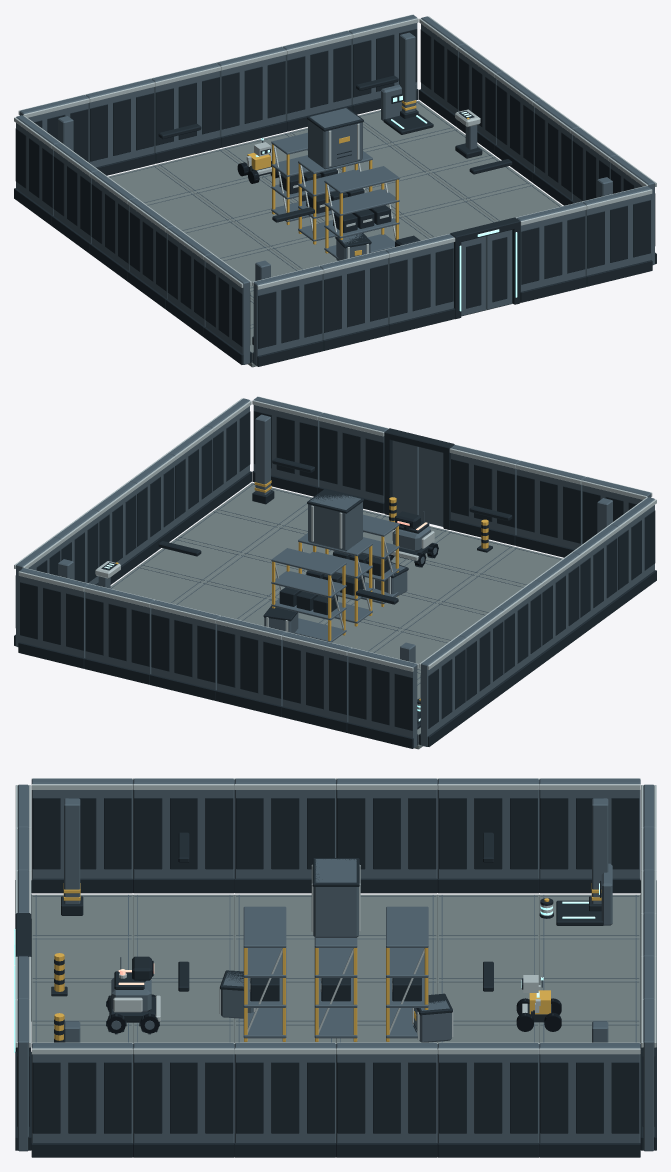
The model's file is SCN_Warehouse_12m.fbx.
The picture shows the model from 3 angles, top to bottom: view 1: azimuth 30°, elevation 25°; view 2: azimuth 150°, elevation 25°; view 3: azimuth 270°, elevation 25°; orthographic projection. The views are drawn at different scales.
Parts seen in each view (by area): view 1: PROP_CrateLarge__Container, ENV_Wall_2m__Body, ENV_Floor_2m__Tile.012, ENV_Floor_2m__Tile.032, ENV_Floor_2m__Tile.013, ENV_Floor_2m__Tile.031, ENV_Floor_2m__Tile.026, ENV_Wall_2m__Body.008, ENV_Wall_2m__Body.007, ENV_Wall_2m__Body.006, ENV_Wall_2m__Body.004, ENV_Floor_2m__Tile.033 (+111 smaller); view 2: ENV_Floor_2m__Tile.034, PROP_CrateLarge__Container, ENV_Wall_2m__Body.001, ENV_Floor_2m__Tile.033, ENV_Floor_2m__Tile.017, ENV_Floor_2m__Tile.035, ENV_Wall_2m__Body.008, ENV_Floor_2m__Tile.027, ENV_Wall_2m__Body.007, ENV_Wall_2m__Body.005, ENV_Wall_2m__Body.006, ENV_Floor_2m__Tile.026 (+109 smaller); view 3: ENV_Floor_2m__Tile.001, ENV_Floor_2m__Tile.004, ENV_Floor_2m__Tile.006, ENV_Floor_2m__Tile.007, ENV_Wall_2m__Body.019, ENV_Wall_2m__Body.021, ENV_Floor_2m__Tile.011, ENV_Wall_2m__Body.013, ENV_Floor_2m__Tile.005, ENV_Wall_2m__Body.017, ENV_Wall_2m__Body.015, ENV_Wall_2m__Body.011 (+106 smaller).
Part boxes in pixels (<box>): PROP_CrateLarge__Container: <box>308,108,362,169</box>; ENV_Wall_2m__Body: <box>253,266,322,366</box>; ENV_Floor_2m__Tile.012: <box>156,149,248,192</box>; ENV_Floor_2m__Tile.032: <box>429,156,531,199</box>; ENV_Floor_2m__Tile.013: <box>194,177,294,220</box>; ENV_Floor_2m__Tile.031: <box>391,128,494,172</box>; ENV_Floor_2m__Tile.026: <box>364,172,466,216</box>; ENV_Wall_2m__Body.008: <box>283,31,351,120</box>; ENV_Wall_2m__Body.007: <box>517,202,585,291</box>; ENV_Wall_2m__Body.006: <box>217,47,285,136</box>; ENV_Wall_2m__Body.004: <box>385,234,453,324</box>; ENV_Floor_2m__Tile.033: <box>467,184,562,221</box>; ENV_Floor_2m__Tile.034: <box>176,510,279,554</box>; PROP_CrateLarge__Container: <box>308,495,362,551</box>; ENV_Wall_2m__Body.001: <box>348,648,417,748</box>; ENV_Floor_2m__Tile.033: <box>139,538,241,581</box>; ENV_Floor_2m__Tile.017: <box>425,531,514,574</box>; ENV_Floor_2m__Tile.035: <box>214,482,312,526</box>; ENV_Wall_2m__Body.008: <box>85,584,153,673</box>; ENV_Floor_2m__Tile.027: <box>204,554,306,598</box>; ENV_Wall_2m__Body.007: <box>319,413,387,502</box>; ENV_Wall_2m__Body.005: <box>217,616,285,706</box>; ENV_Wall_2m__Body.006: <box>151,600,219,690</box>; ENV_Floor_2m__Tile.026: <box>174,582,269,619</box>; ENV_Floor_2m__Tile.001: <box>437,894,539,937</box>; ENV_Floor_2m__Tile.004: <box>133,894,234,937</box>; ENV_Floor_2m__Tile.006: <box>539,937,640,980</box>; ENV_Floor_2m__Tile.007: <box>437,937,539,980</box>; ENV_Wall_2m__Body.019: <box>133,1043,234,1142</box>; ENV_Wall_2m__Body.021: <box>31,1043,132,1142</box>; ENV_Floor_2m__Tile.011: <box>31,937,132,980</box>; ENV_Wall_2m__Body.013: <box>437,1043,539,1142</box>; ENV_Floor_2m__Tile.005: <box>31,894,132,937</box>; ENV_Wall_2m__Body.017: <box>234,1043,335,1142</box>; ENV_Wall_2m__Body.015: <box>336,1043,437,1142</box>; ENV_Wall_2m__Body.011: <box>539,1043,640,1142</box>.
Size of the model in its own units: 1264 by 343 by 1266.
